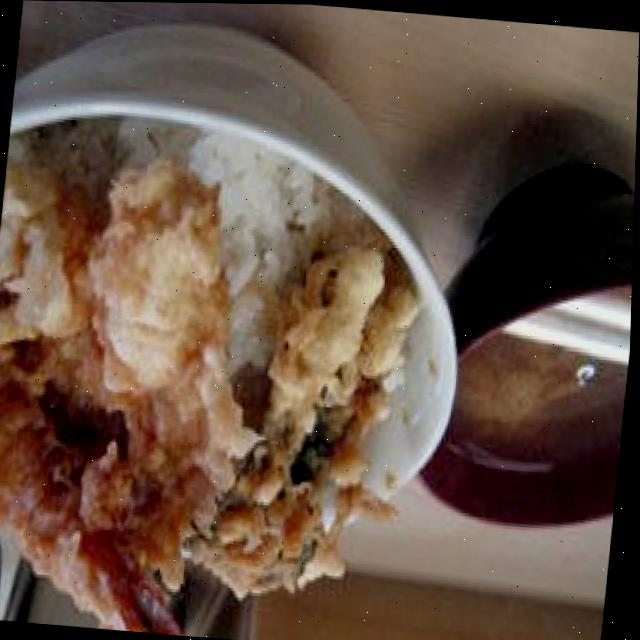汤锅炖物: (423, 266, 634, 540)
熟制海鲜: (0, 0, 498, 621)
